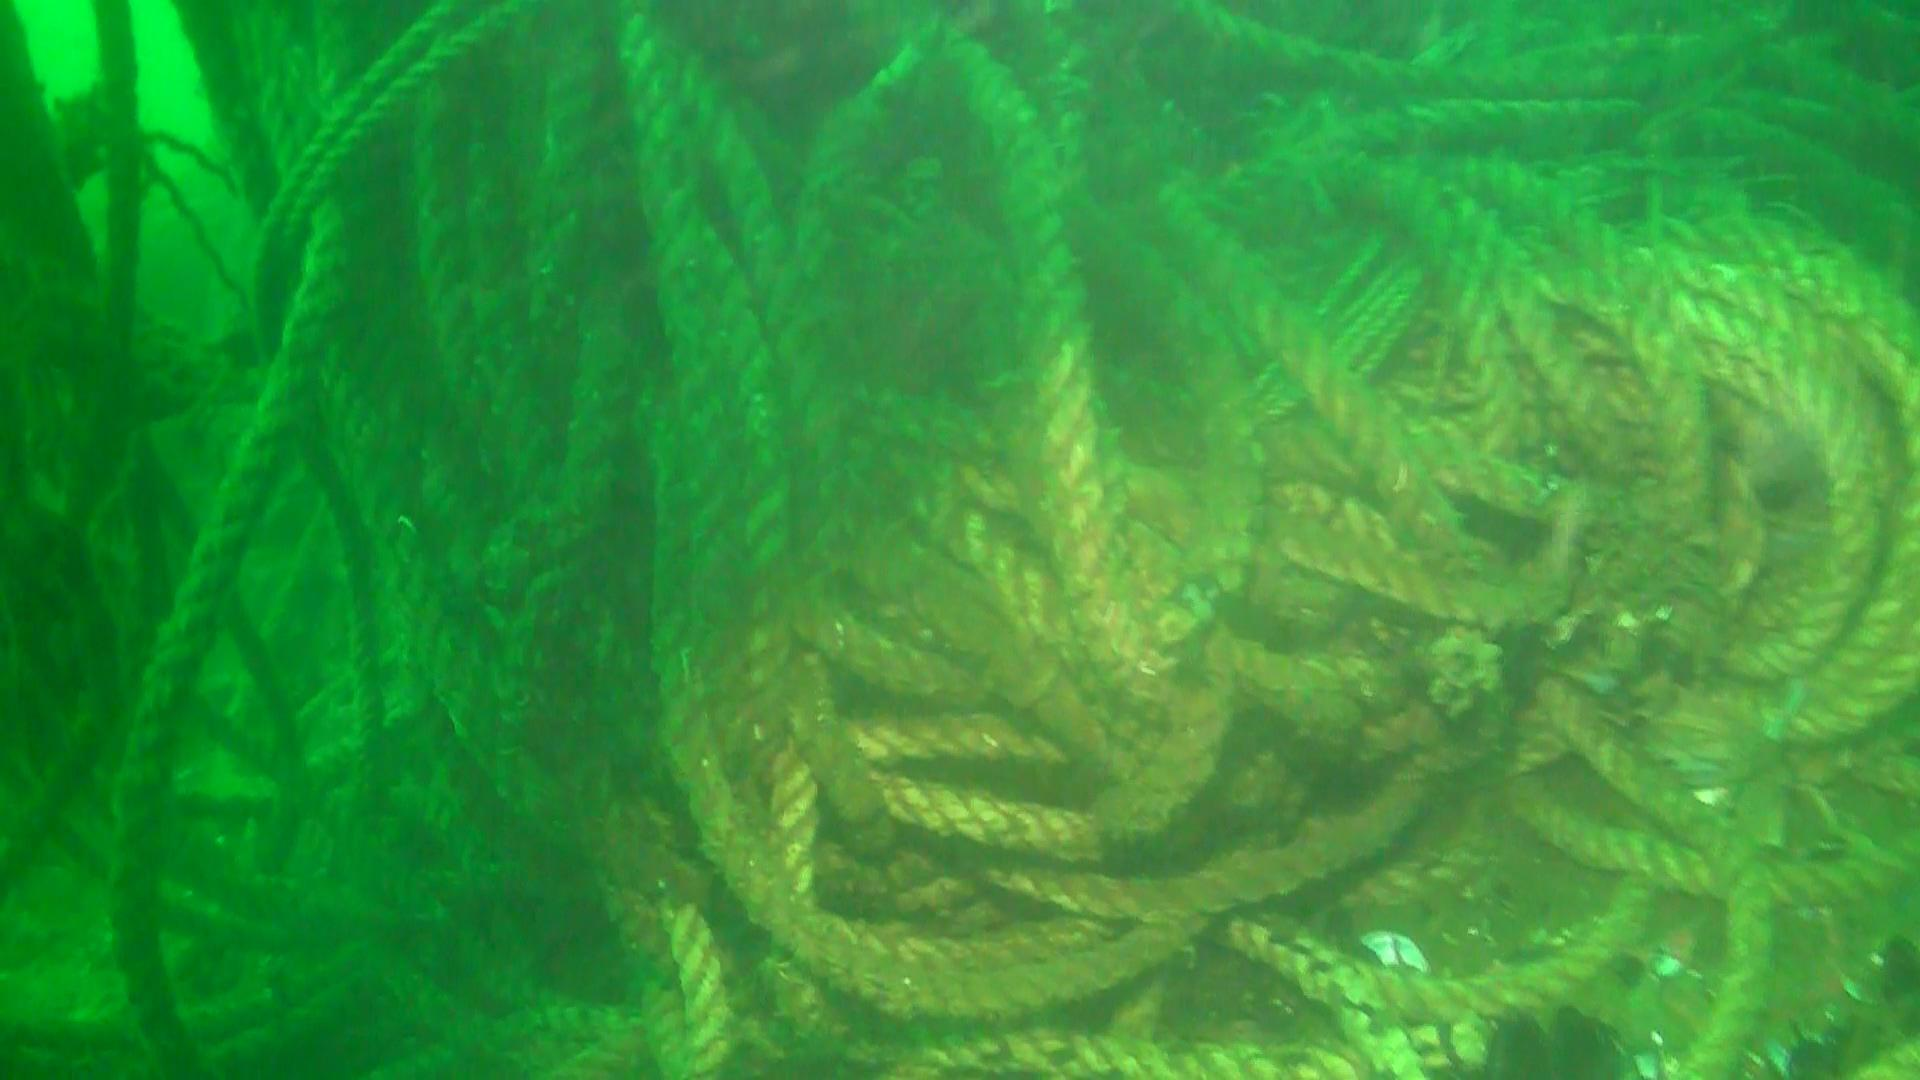bundle of ropes: (88, 0, 1920, 1080)
